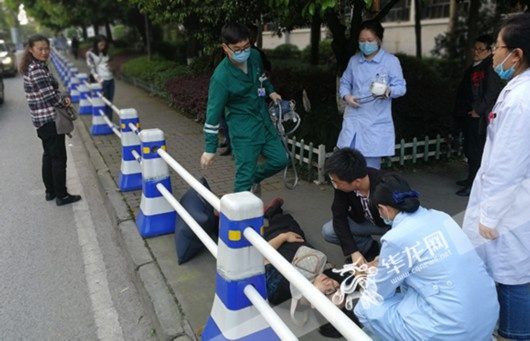falling: (234, 187, 350, 330)
